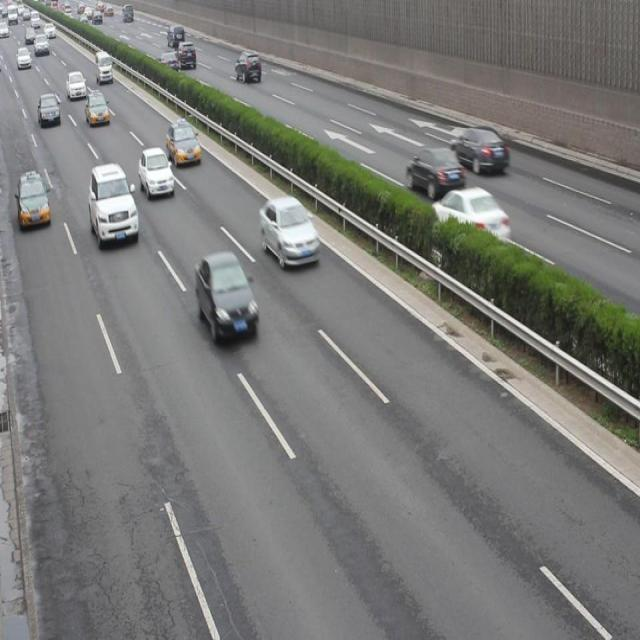car: (196, 252, 257, 344), (427, 189, 509, 250), (258, 194, 321, 271), (87, 162, 138, 248), (404, 146, 463, 199), (450, 124, 509, 177), (16, 172, 51, 230), (138, 146, 174, 198), (166, 121, 202, 168), (38, 91, 62, 128), (86, 91, 110, 127), (234, 51, 260, 84)
